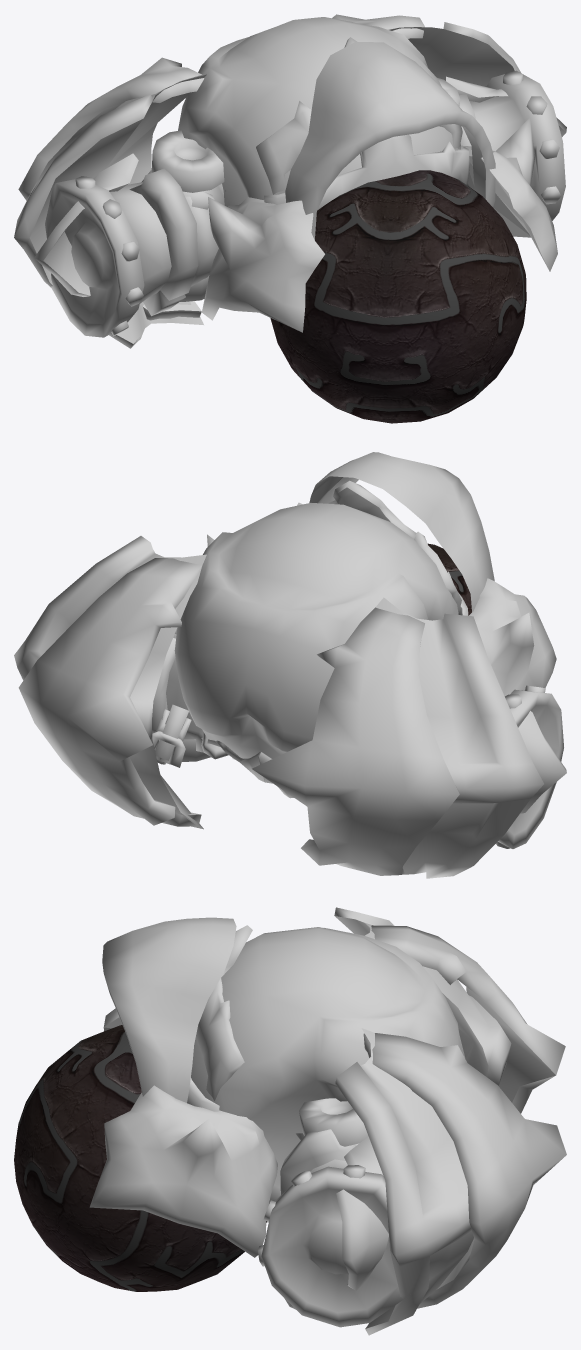
Rendered from Born (11).obj.
3 renders of one model, top to bottom at view 1: azimuth 30°, elevation 25°; view 2: azimuth 150°, elevation 25°; view 3: azimuth 270°, elevation 25°, orthographic. The views are drawn at different scales.
Parts seen in each view (by area): view 1: ironreaver01; view 2: ironreaver01; view 3: ironreaver01.
Boxes of the visible parts, x1,y1,x2,y2 form: ironreaver01: (14, 14, 566, 423); ironreaver01: (14, 452, 566, 878); ironreaver01: (14, 907, 566, 1335).
Bounding box in the file's own units: 1.55 × 0.9463 × 1.33.
